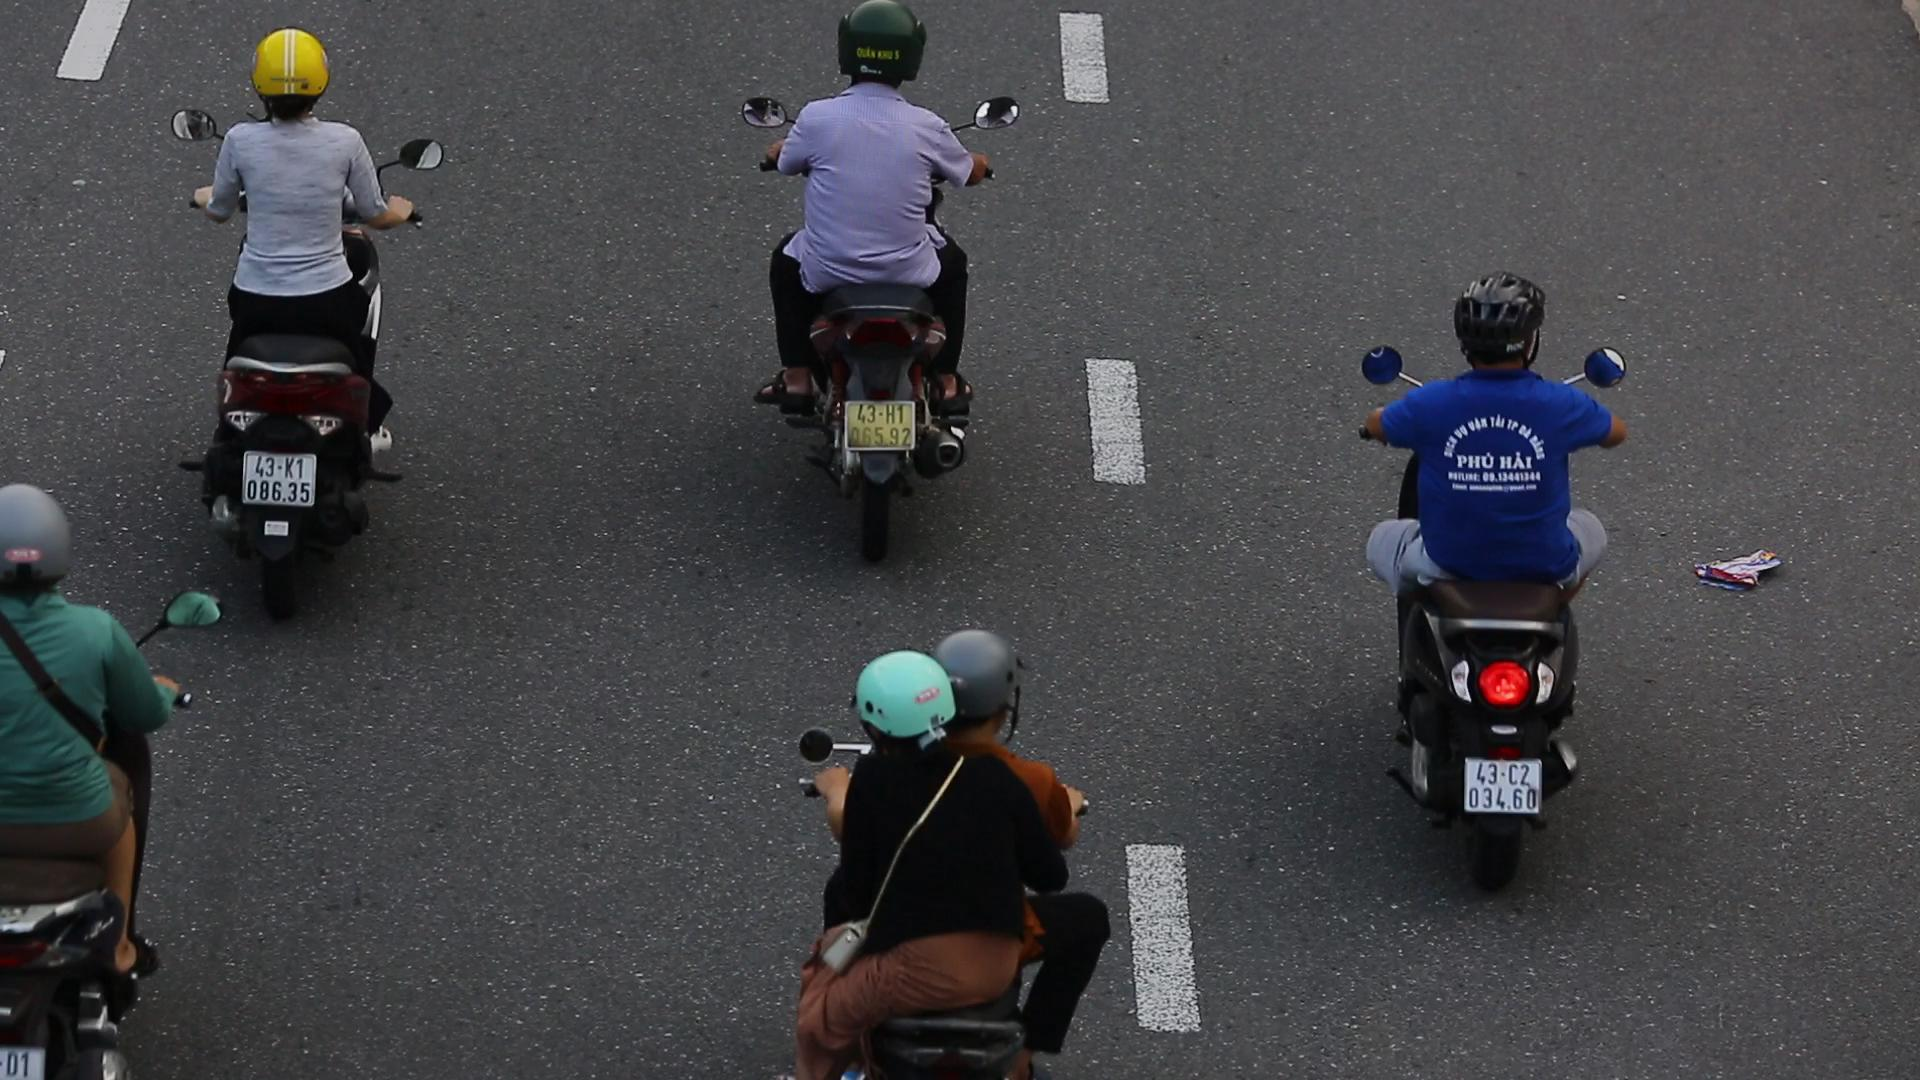motobike: (1336, 240, 1642, 899), (137, 3, 431, 624), (731, 0, 1039, 572)
